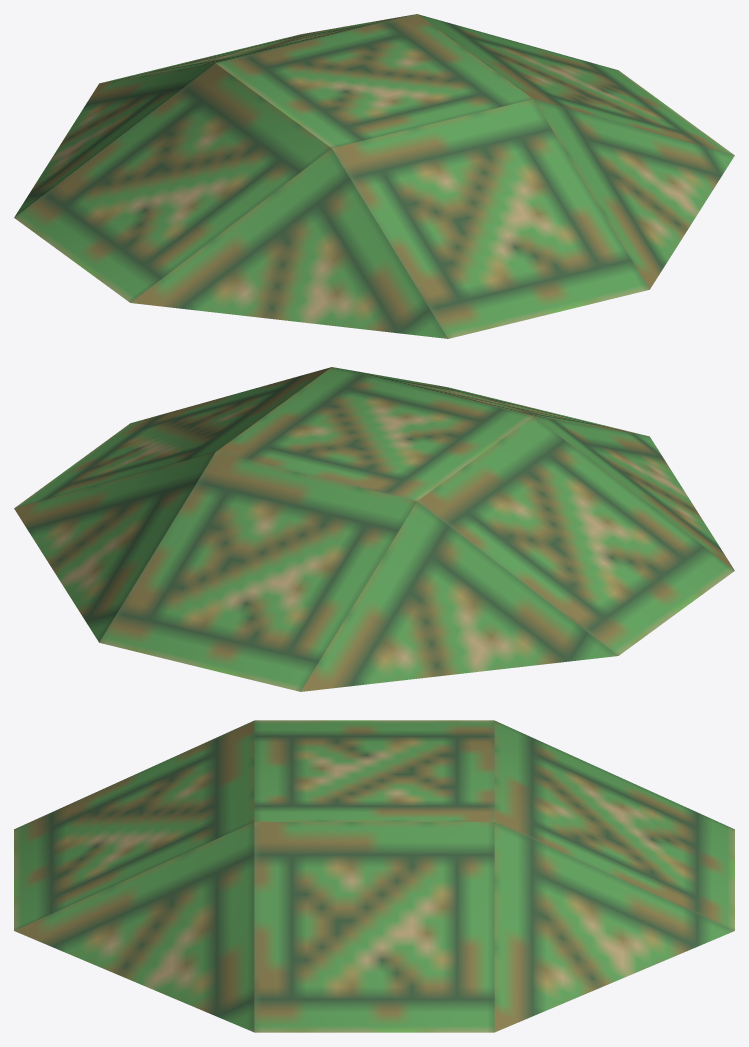
Rendered from octagonal-bump-48x8x48.obj.
3 views of the same model, one above another, from view 1: azimuth 30°, elevation 25°; view 2: azimuth 150°, elevation 25°; view 3: azimuth 270°, elevation 25° (orthographic). The views are drawn at different scales.
Parts seen in each view (by area): view 1: Default; view 2: Default; view 3: Default.
Part boxes in pixels (x1,y1,x2,y2): Default: (14,14,734,338); Default: (14,367,734,691); Default: (14,720,734,1032).
Size of the model in its own units: 3 by 0.5 by 3.
